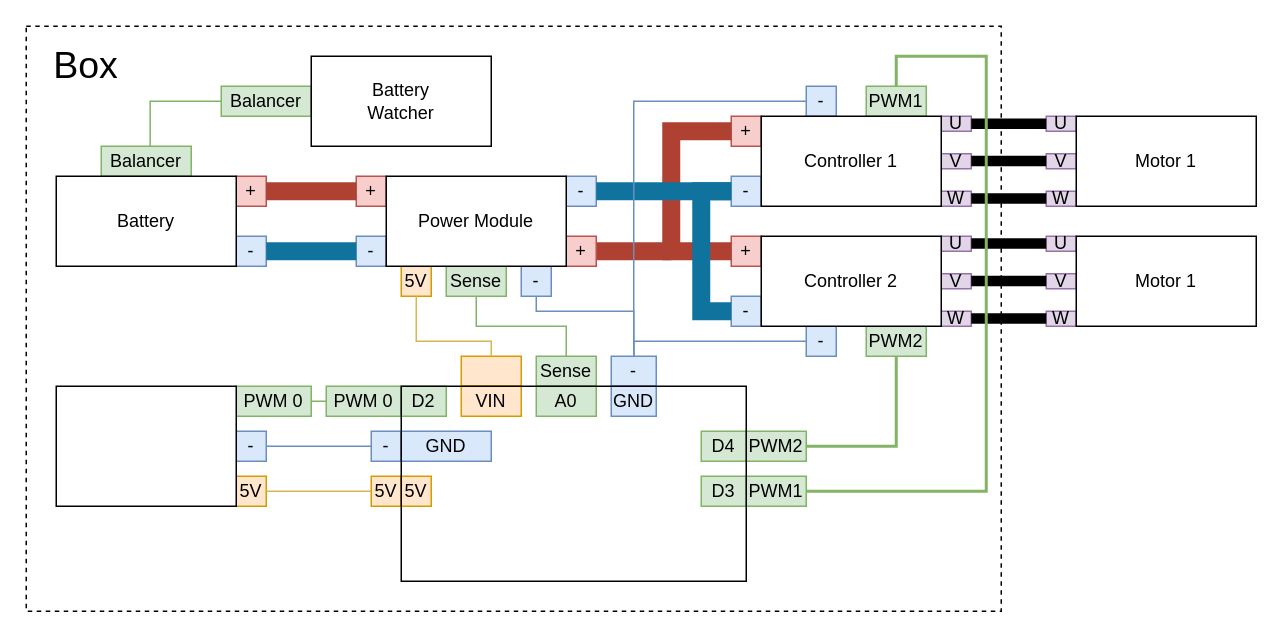
Image size: 1283x638. Some labels were removed from this diagram. The shapes that lost their labels are listed below. From the top down, each one's box as (x1, y1, x2, y2) in pixels, then its label:
(460, 355, 521, 386): Input
(55, 385, 236, 506): Receiver
(400, 385, 746, 581): Arduino Nano
